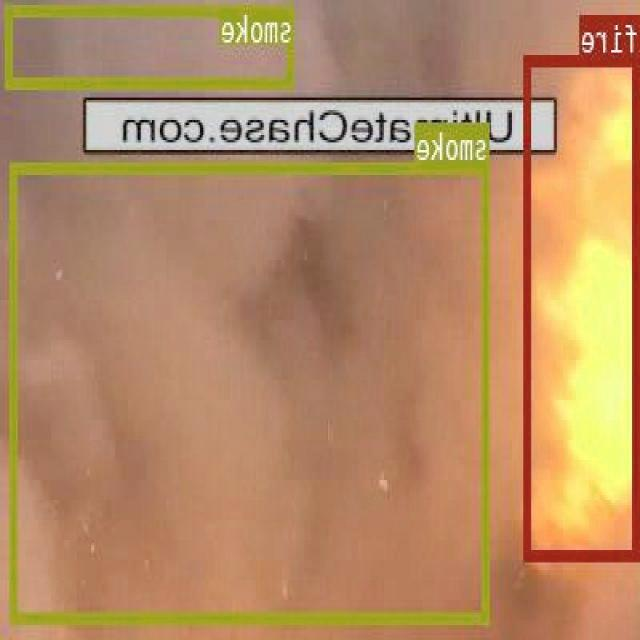fire: (526, 54, 640, 558)
smoke: (12, 160, 491, 620), (8, 5, 296, 87)
